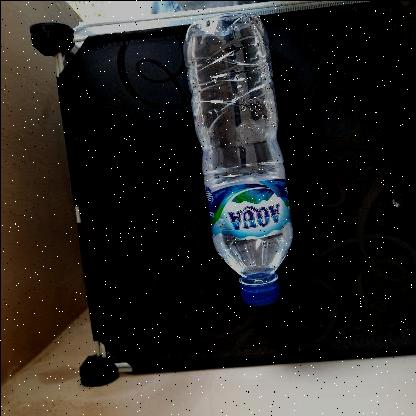Plastic Bottle: (182, 3, 294, 307)
